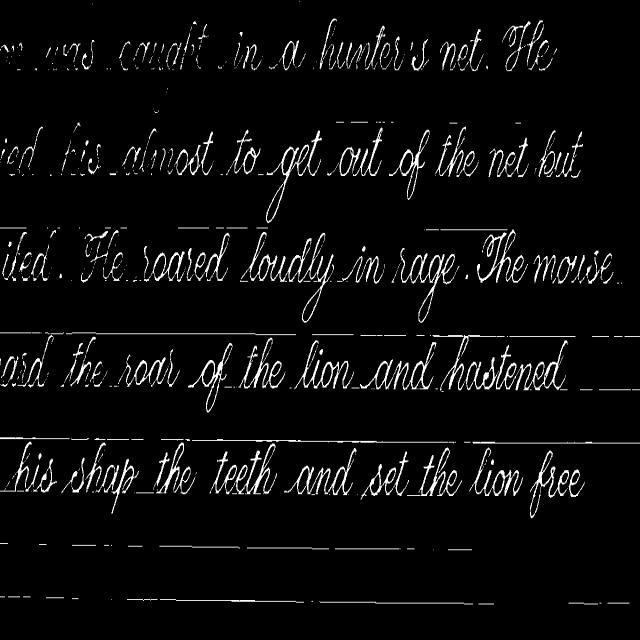noise: (36, 542, 472, 559), (124, 590, 496, 606), (0, 330, 298, 338), (160, 437, 458, 444), (416, 333, 576, 340), (424, 228, 514, 238), (0, 436, 145, 442), (461, 440, 640, 444), (560, 599, 631, 606), (310, 332, 406, 336), (38, 594, 82, 602), (0, 591, 34, 600), (590, 334, 640, 339), (348, 120, 370, 124), (372, 120, 394, 124), (0, 226, 26, 229), (108, 170, 118, 177), (214, 226, 248, 228), (178, 226, 210, 228), (0, 540, 8, 548), (134, 490, 154, 493), (336, 120, 346, 124), (121, 226, 128, 229), (448, 122, 458, 124), (255, 227, 268, 228), (516, 122, 522, 124), (466, 274, 468, 279)
not-noise: (110, 19, 489, 72), (240, 232, 334, 322), (325, 125, 431, 198), (476, 230, 612, 284), (440, 336, 568, 390), (61, 443, 138, 513), (389, 248, 461, 322), (266, 131, 322, 224), (0, 124, 100, 176), (121, 128, 216, 176), (142, 233, 229, 282), (360, 341, 436, 389), (210, 442, 278, 494), (530, 451, 584, 516), (286, 447, 356, 495), (0, 228, 62, 281), (188, 343, 232, 412), (500, 21, 557, 72), (230, 337, 286, 388), (0, 334, 54, 386), (2, 440, 56, 492), (298, 340, 354, 388), (470, 447, 523, 496), (114, 349, 180, 387), (60, 335, 107, 387), (360, 451, 410, 499), (81, 228, 126, 281), (436, 126, 479, 177), (536, 131, 582, 178), (418, 447, 462, 496), (154, 442, 194, 494), (336, 246, 388, 284), (488, 138, 530, 177), (44, 40, 98, 70), (225, 130, 260, 174), (0, 43, 38, 74), (459, 150, 478, 175)
